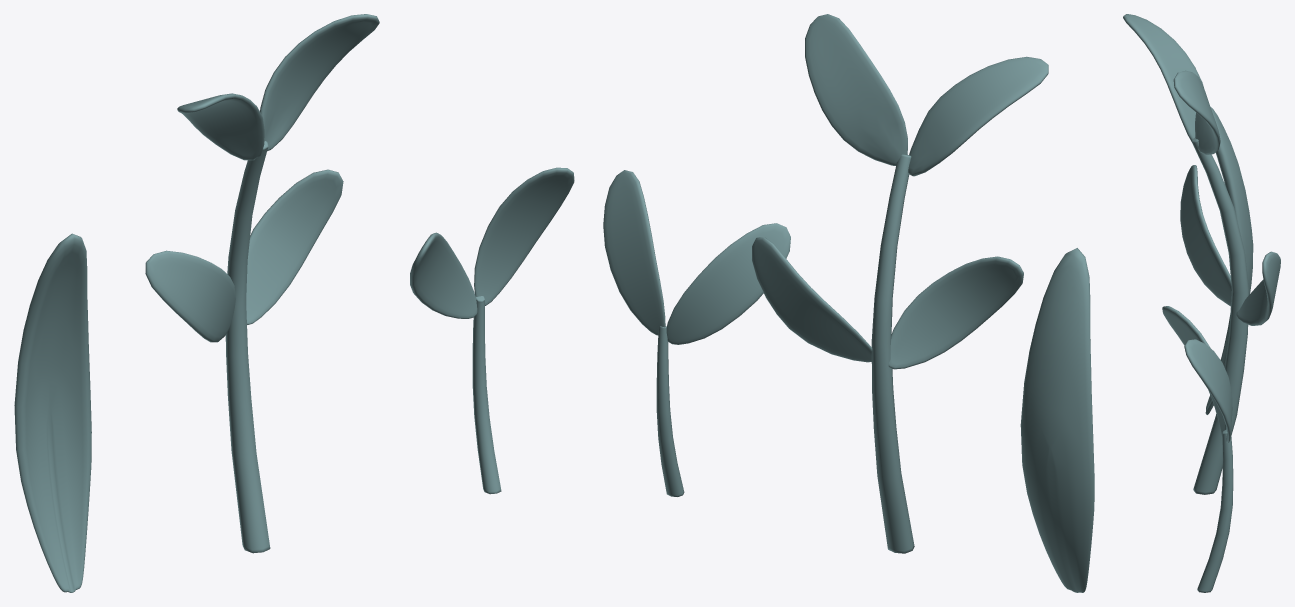
File: SM_20080Graminhas.fbx
The picture shows the model from 3 angles, left to right: view 1: azimuth 30°, elevation 25°; view 2: azimuth 150°, elevation 25°; view 3: azimuth 270°, elevation 25°; orthographic projection. The views are drawn at different scales.
Visible parts, largest first — view 1: SM_20080Graminhas_geo_3, SM_20080Graminhas_geo_1, SM_20080Graminhas_geo_2; view 2: SM_20080Graminhas_geo_3, SM_20080Graminhas_geo_1, SM_20080Graminhas_geo_2; view 3: SM_20080Graminhas_geo_3, SM_20080Graminhas_geo_2, SM_20080Graminhas_geo_1.
Part boxes in pixels (x1=…): SM_20080Graminhas_geo_3: x1=145, y1=14, x2=379, y2=553; SM_20080Graminhas_geo_1: x1=14, y1=233, x2=91, y2=592; SM_20080Graminhas_geo_2: x1=410, y1=167, x2=574, y2=494; SM_20080Graminhas_geo_3: x1=752, y1=14, x2=1048, y2=553; SM_20080Graminhas_geo_1: x1=1020, y1=248, x2=1094, y2=592; SM_20080Graminhas_geo_2: x1=603, y1=170, x2=790, y2=496; SM_20080Graminhas_geo_3: x1=1123, y1=14, x2=1280, y2=494; SM_20080Graminhas_geo_2: x1=1162, y1=306, x2=1233, y2=592; SM_20080Graminhas_geo_1: x1=1205, y1=107, x2=1253, y2=414.
Bounding box in the file's own units: 28.28 × 26.64 × 8.41.
